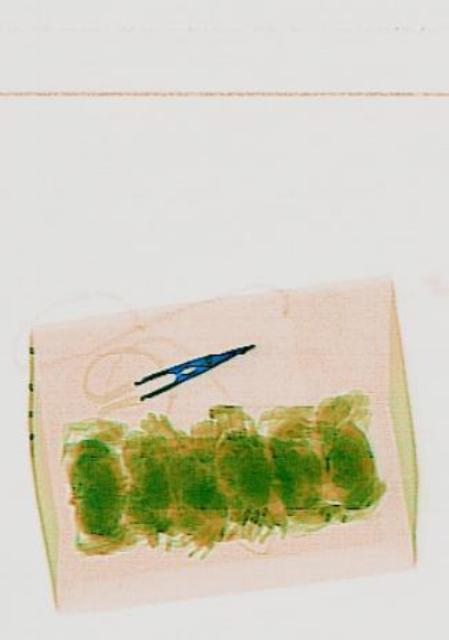Knife: (128, 330, 255, 402)
